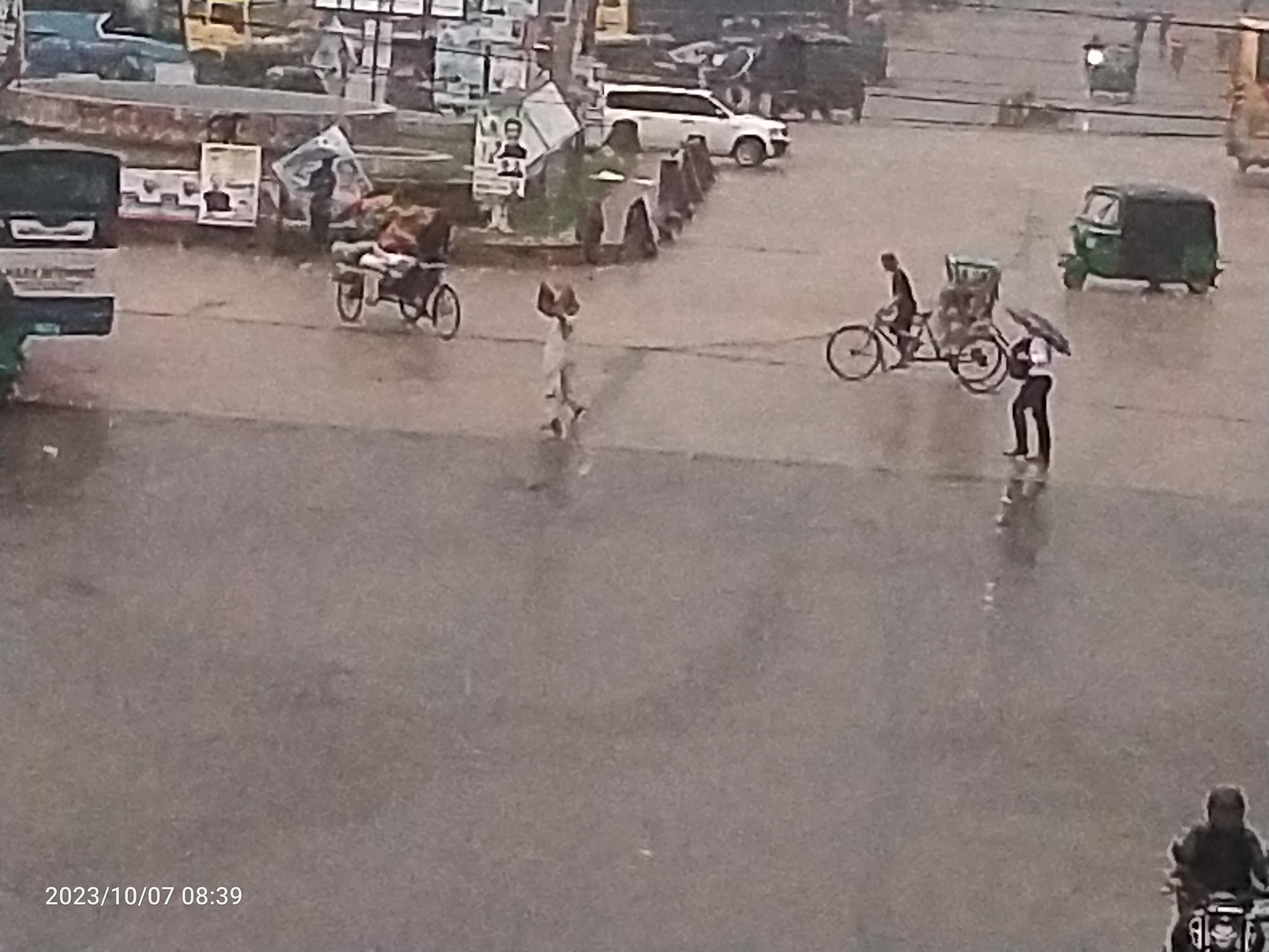Bike: (1097, 722, 1269, 952)
Bus: (0, 112, 157, 411)
Car: (772, 208, 1044, 442), (308, 169, 509, 373), (561, 63, 816, 181)
